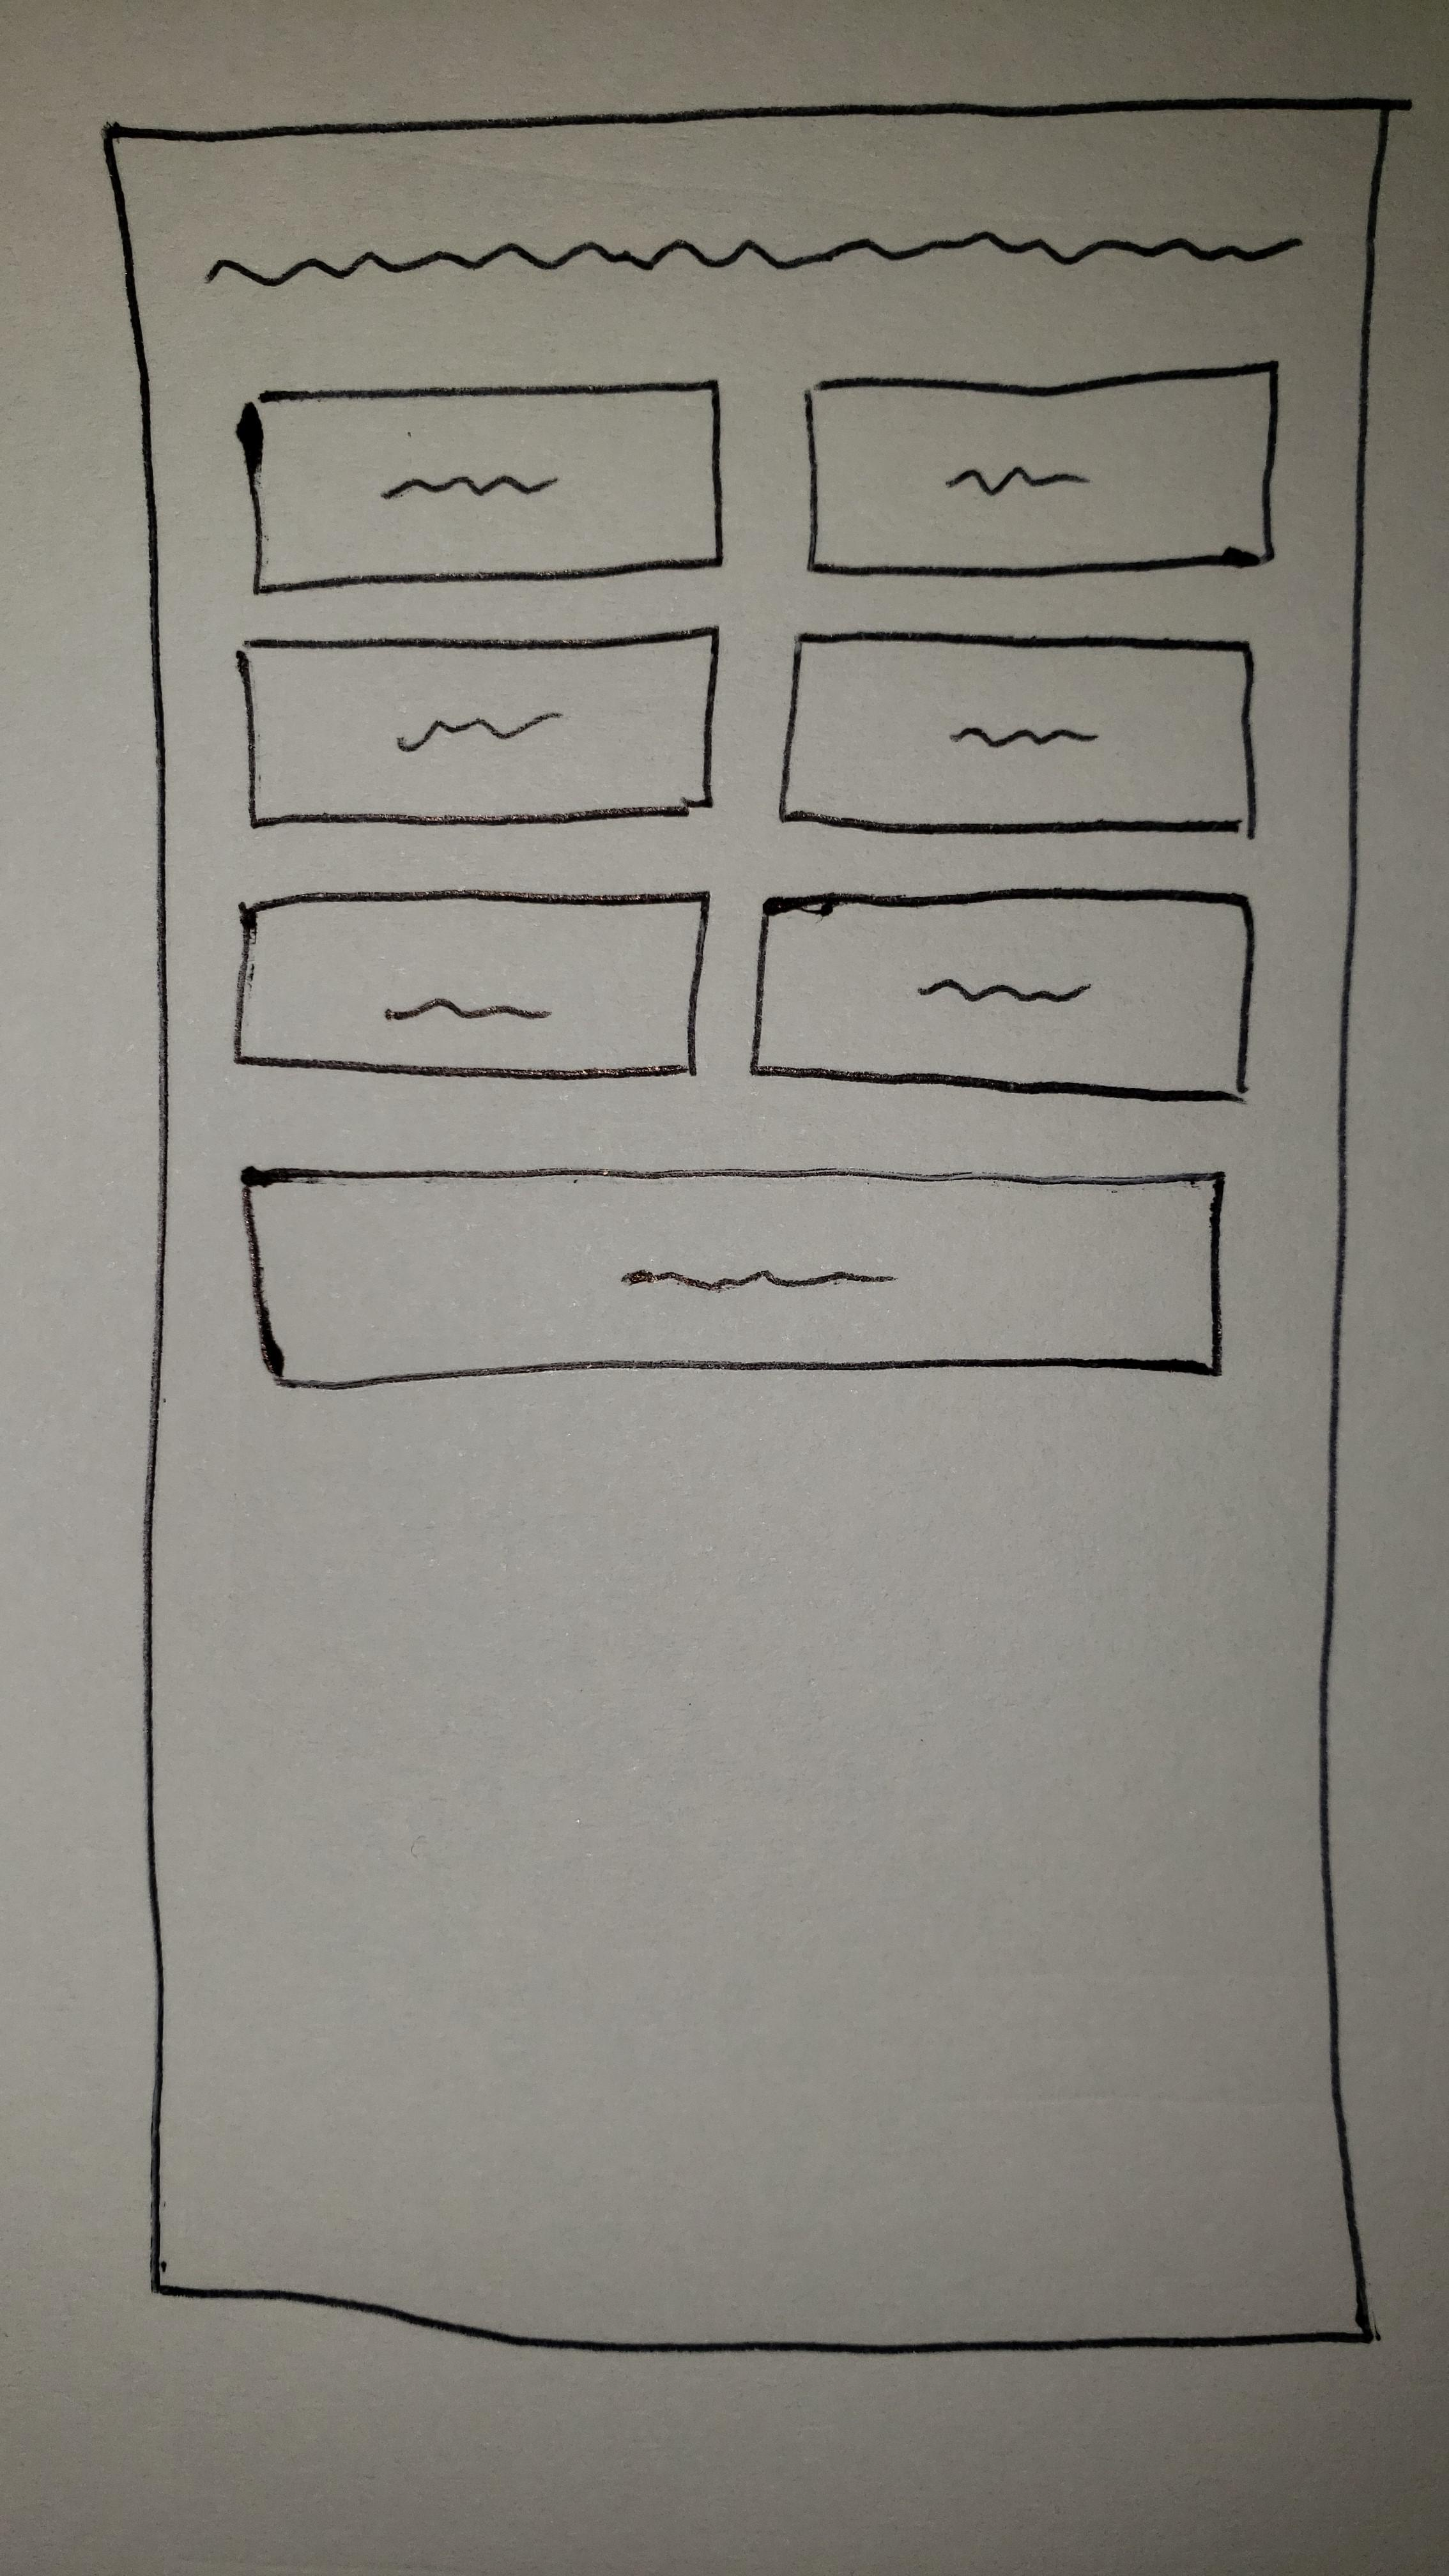Button: (242, 1168, 1228, 1391), (747, 888, 1253, 1104), (248, 379, 727, 596), (805, 363, 1277, 579), (778, 632, 1256, 837), (237, 626, 718, 830), (237, 892, 709, 1079)
Label: (202, 221, 1302, 303)
Screen: (103, 99, 1384, 2351)
